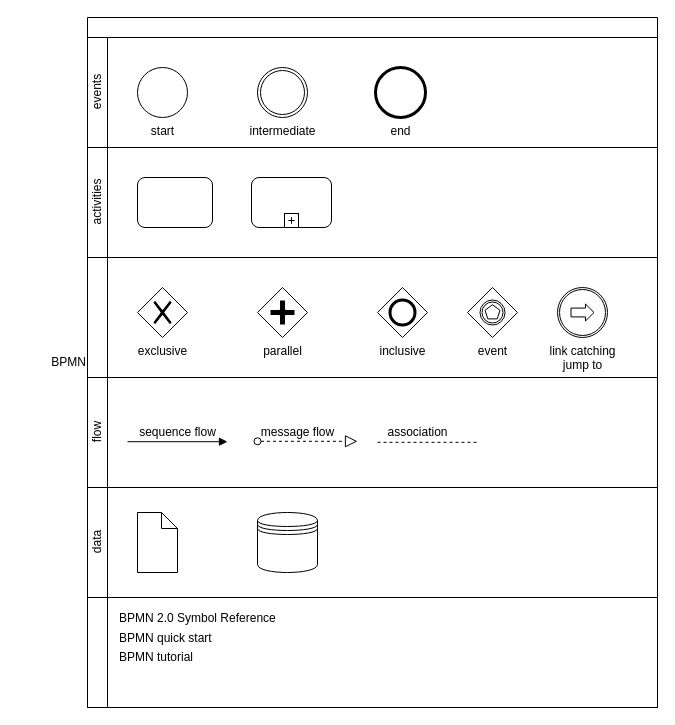
Image size: 675x725. Some labels were removed from this diagram. Each missing label, with the box of its shape:
data object: (136, 512, 178, 572)
data store: (256, 512, 318, 572)
gateway: (86, 256, 658, 378)
link: (86, 596, 658, 708)
Sub-Process: (250, 176, 332, 228)
task: (136, 176, 212, 228)
